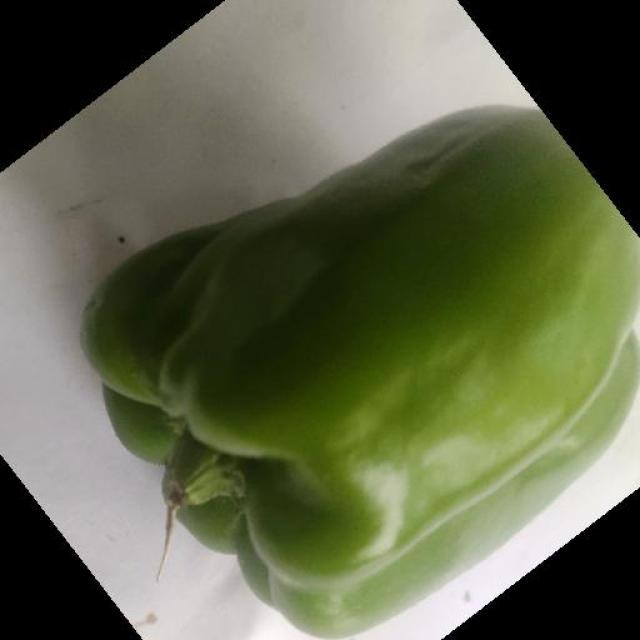Fresh_Capsicum: (96, 102, 628, 567)
